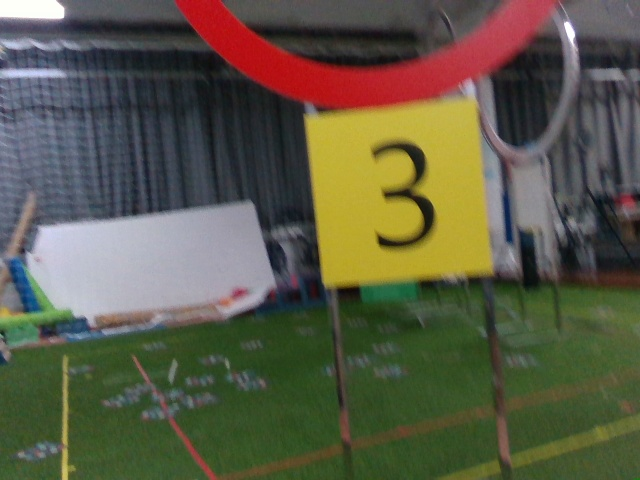target: (321, 116, 482, 271)
